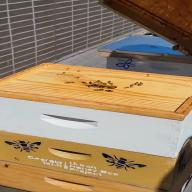Bee: (120, 81, 146, 90), (100, 80, 119, 86)
